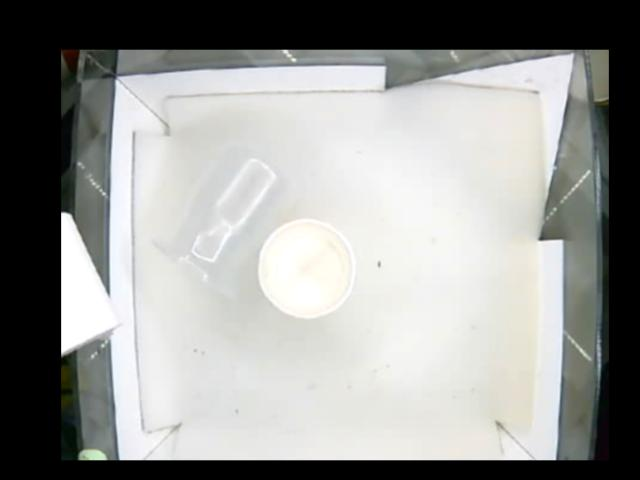Bottle: (157, 149, 279, 292)
Cup: (255, 217, 356, 321)
